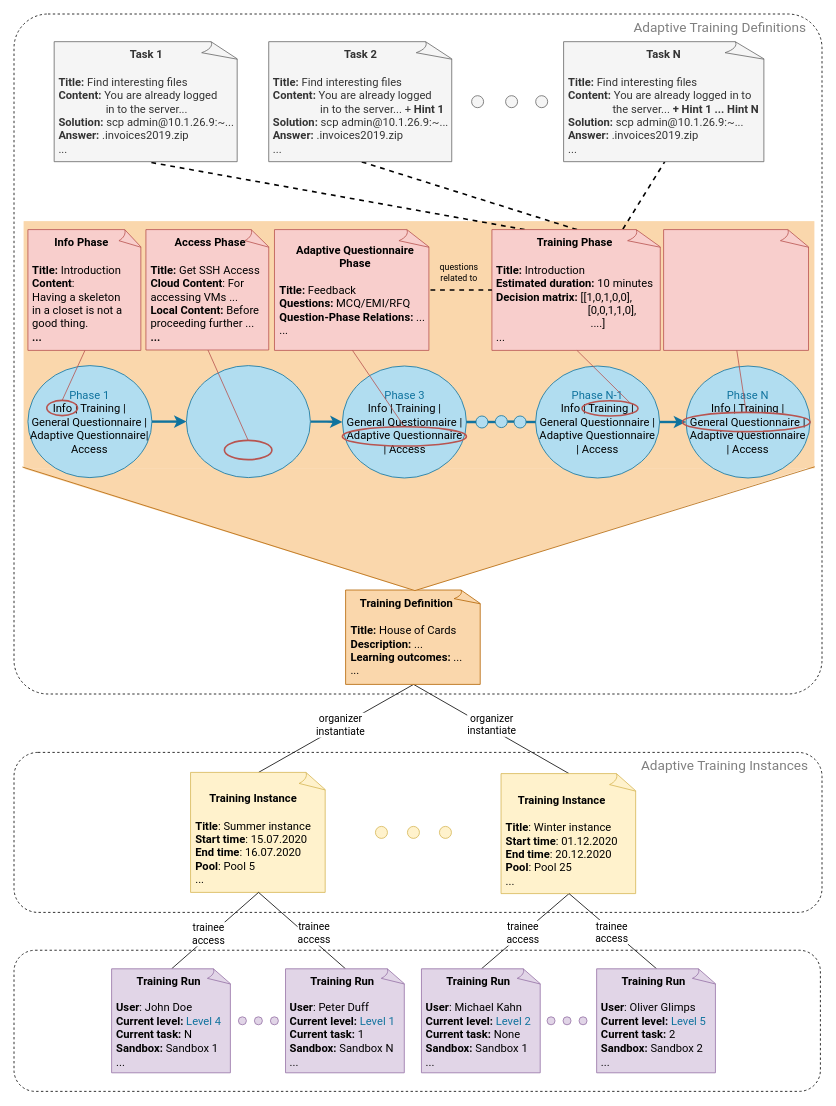
Some shapes in this 836 by 1106 pixel diagram are drawn without their labels. The shapes that lost their labels are listed below. From the top down, each one's box as (x1, y1, x2, y2) in pixels, then its label:
(663, 229, 810, 350): General Questionnaire Phase Title: Feedback Questions: MCQ/EMI/RFQ ...
(186, 365, 310, 478): Phase 2 Info | Training | General Questionnaire | Adaptive Questionnaire| Access
(13, 949, 820, 1091): Adaptive Training Runs
